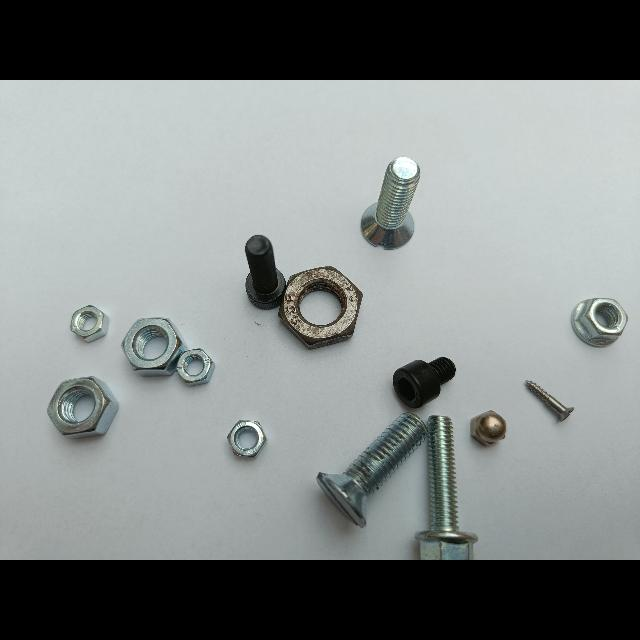bolt: (317, 413, 428, 527), (415, 415, 478, 560), (361, 157, 420, 250), (393, 357, 455, 408), (245, 235, 286, 309), (525, 380, 574, 421)
nuts: (279, 266, 363, 349), (47, 377, 119, 438), (122, 318, 187, 376), (571, 298, 628, 347), (227, 420, 267, 457), (70, 305, 109, 342), (177, 349, 215, 386), (470, 410, 506, 445)
